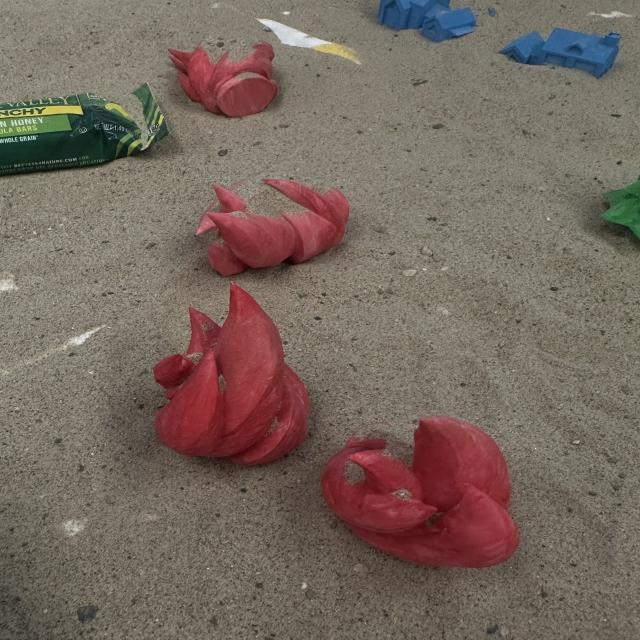fire: (319, 414, 520, 569), (151, 280, 311, 466), (193, 176, 351, 276), (165, 41, 278, 118)
house: (499, 28, 624, 81), (380, 0, 478, 44)
tree: (597, 180, 640, 240)
